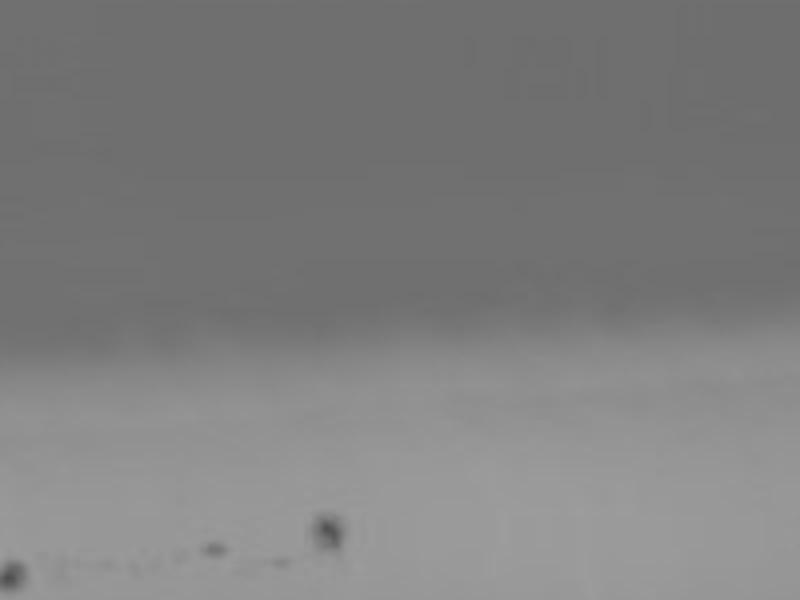defect: (308, 512, 347, 549), (2, 561, 27, 592), (199, 537, 230, 558), (268, 552, 294, 571)
